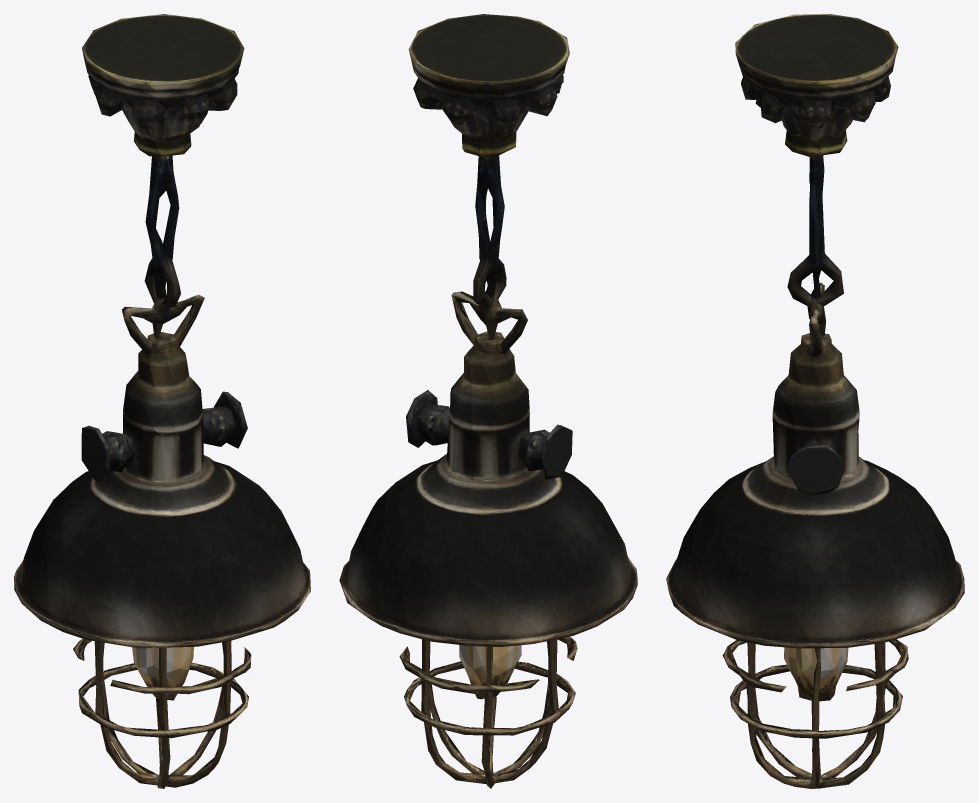
File: trellis_1789144586228_o2gf2.glb
3 renders of one model, left to right at view 1: azimuth 30°, elevation 25°; view 2: azimuth 150°, elevation 25°; view 3: azimuth 270°, elevation 25°, orthographic.
Visible parts, largest first — view 1: world; view 2: world; view 3: world.
Part boxes in pixels (box(x1,y1,x2,y2)): world: box(14, 14, 310, 788); world: box(339, 14, 637, 788); world: box(666, 14, 964, 788).
Size of the model in its own units: 0.3667 by 1 by 0.3658.
Materials: 1 (1 with a texture image).
